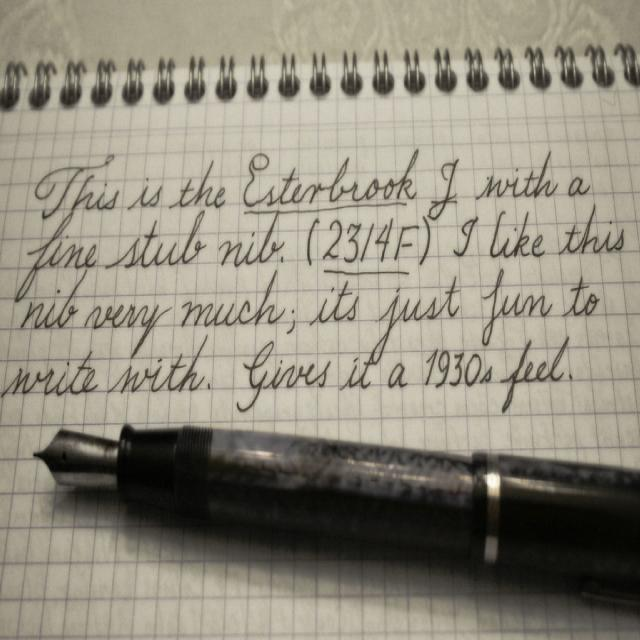pen: (29, 457, 640, 624)
